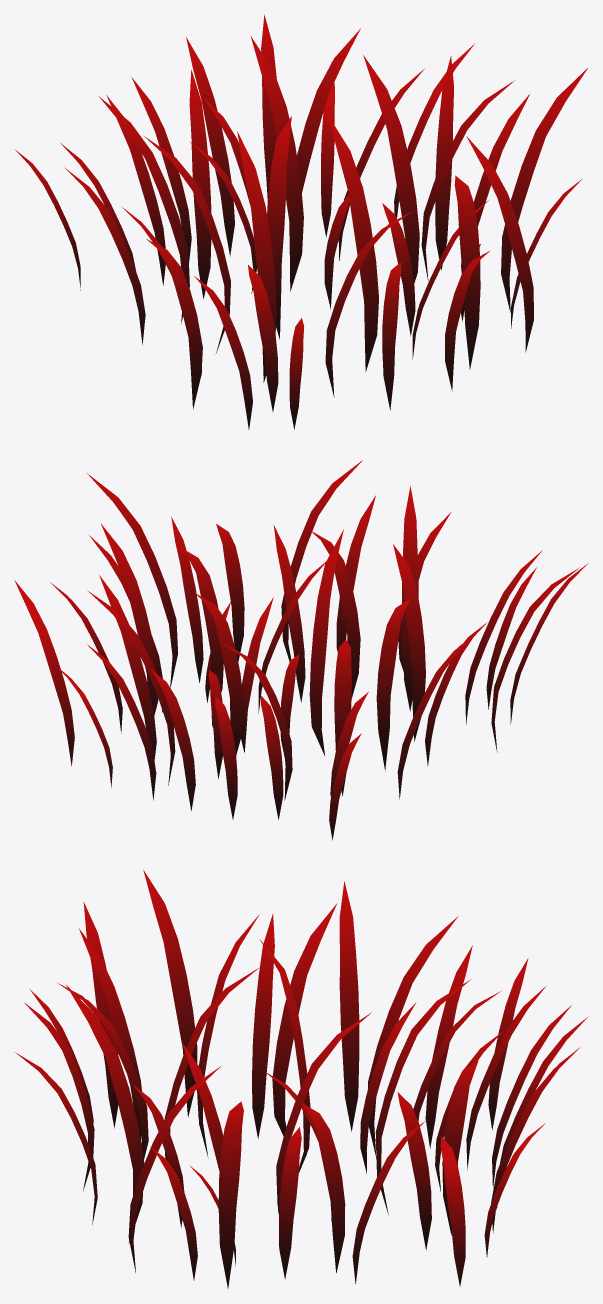
File: Grass.fbx
The picture shows the model from 3 angles, top to bottom: view 1: azimuth 30°, elevation 25°; view 2: azimuth 150°, elevation 25°; view 3: azimuth 270°, elevation 25°; orthographic projection. The views are drawn at different scales.
Parts seen in each view (by area): view 1: Grass; view 2: Grass; view 3: Grass.
Boxes of the visible parts, box(x1,y1,x2,y2) form: Grass: box(15, 14, 587, 429); Grass: box(14, 460, 588, 840); Grass: box(15, 870, 588, 1288).
Size of the model in its own units: 2.58 by 1.19 by 2.5.
